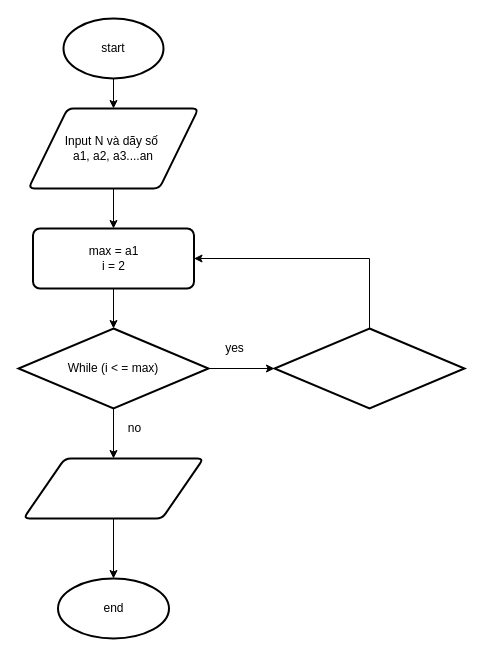
The diagram is 482 pixels wide and 656 high, and some of its shapes have lost their labels. Here are the shapes that lost their labels. From the top down, the centre of each, then its label:
At point (369, 368): "if a(i) > max then max =a(i) i = i+1".
At point (113, 488): "out put max".
